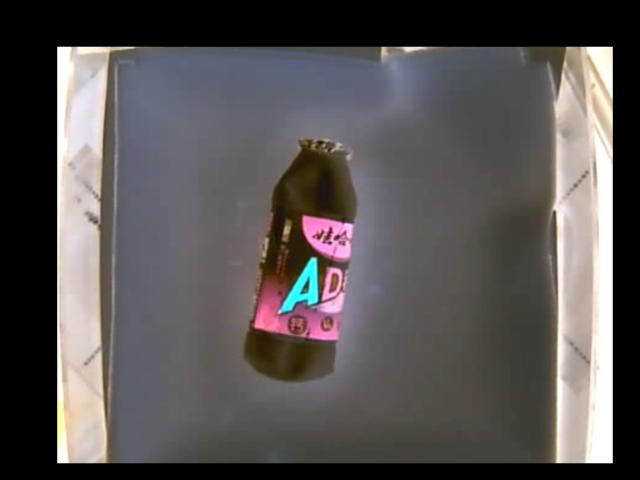Bottle: (242, 140, 359, 382)
